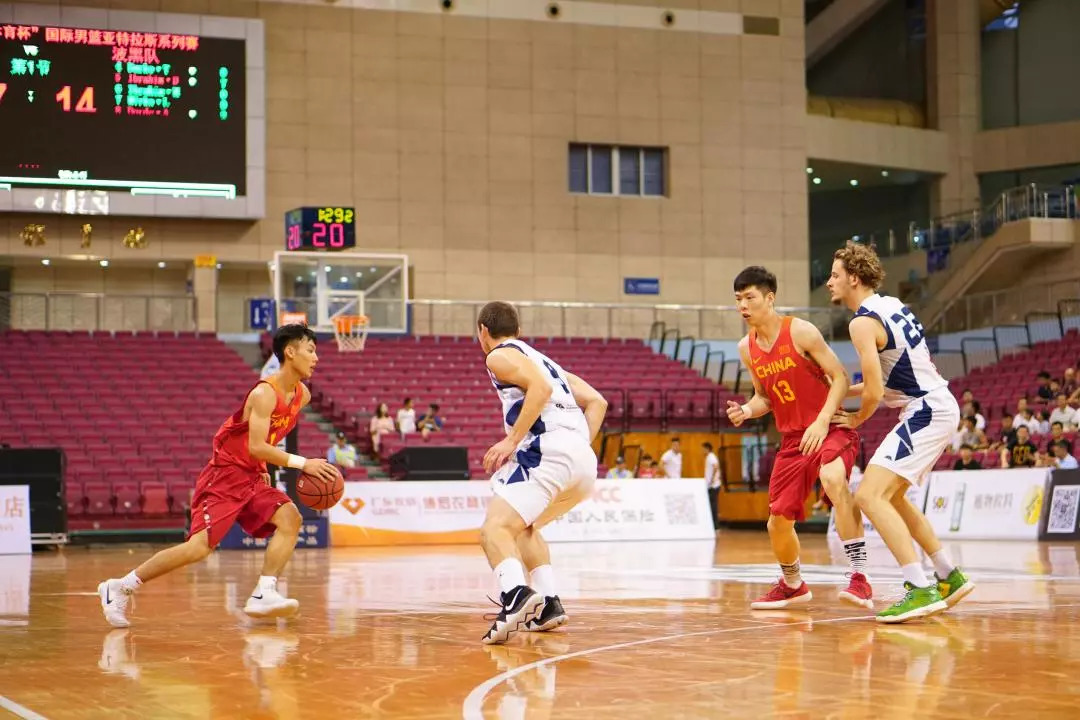ball: (294, 460, 347, 512)
